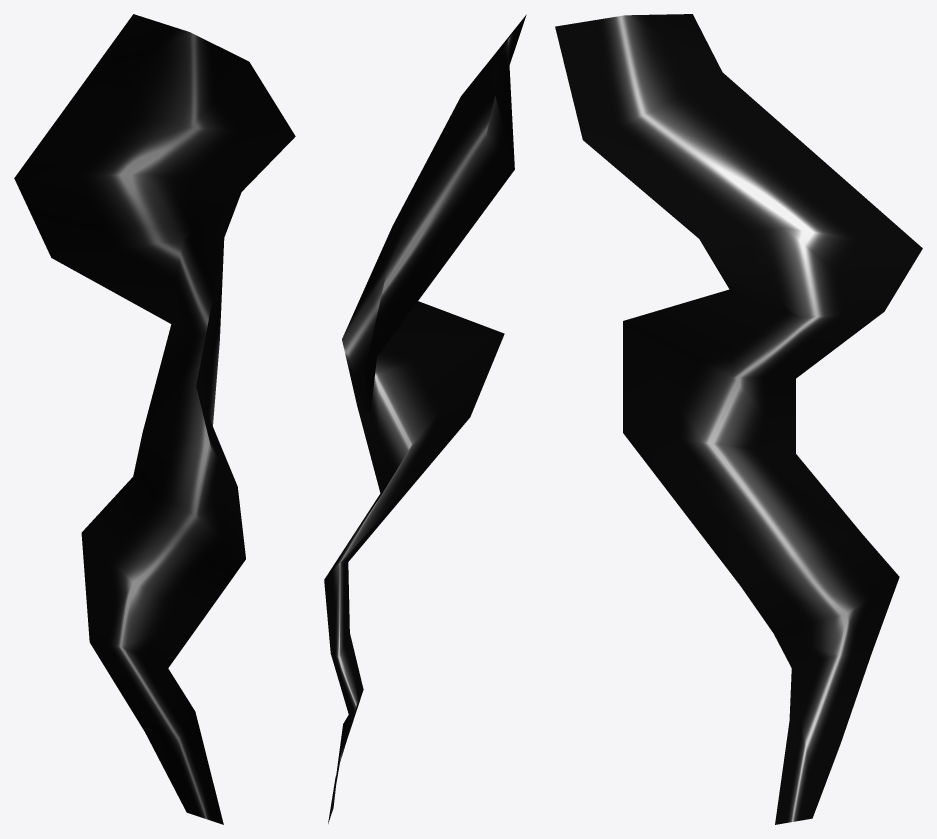
File: LightningPlane02.fbx
The picture shows the model from 3 angles, left to right: view 1: azimuth 30°, elevation 25°; view 2: azimuth 150°, elevation 25°; view 3: azimuth 270°, elevation 25°; orthographic projection. The views are drawn at different scales.
Parts seen in each view (by area): view 1: LightningPlane02; view 2: LightningPlane02; view 3: LightningPlane02.
Boxes of the visible parts, bbox=[...] form: LightningPlane02: bbox=[14, 14, 295, 824]; LightningPlane02: bbox=[324, 14, 526, 823]; LightningPlane02: bbox=[555, 14, 922, 824].
Size of the model in its own units: 88.93 by 399 by 175.
